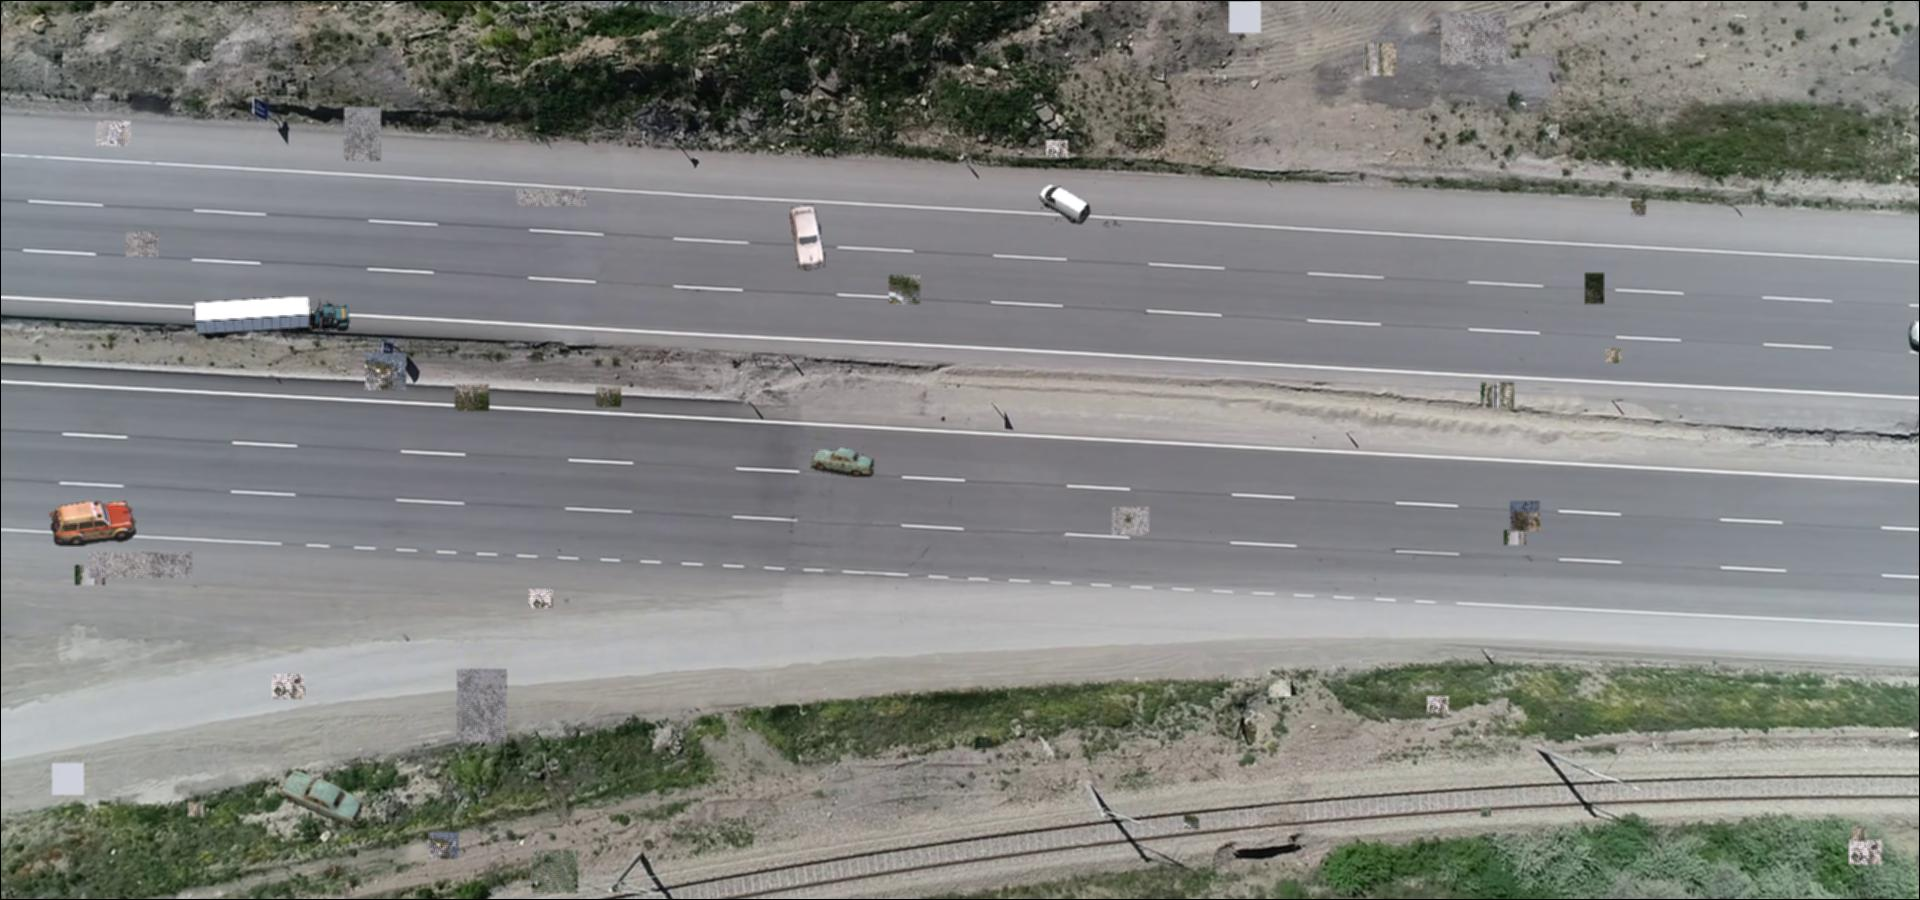arac: (190, 298, 354, 340), (277, 767, 364, 827), (50, 501, 137, 546), (786, 203, 830, 271), (1040, 182, 1091, 224), (811, 446, 874, 478)
